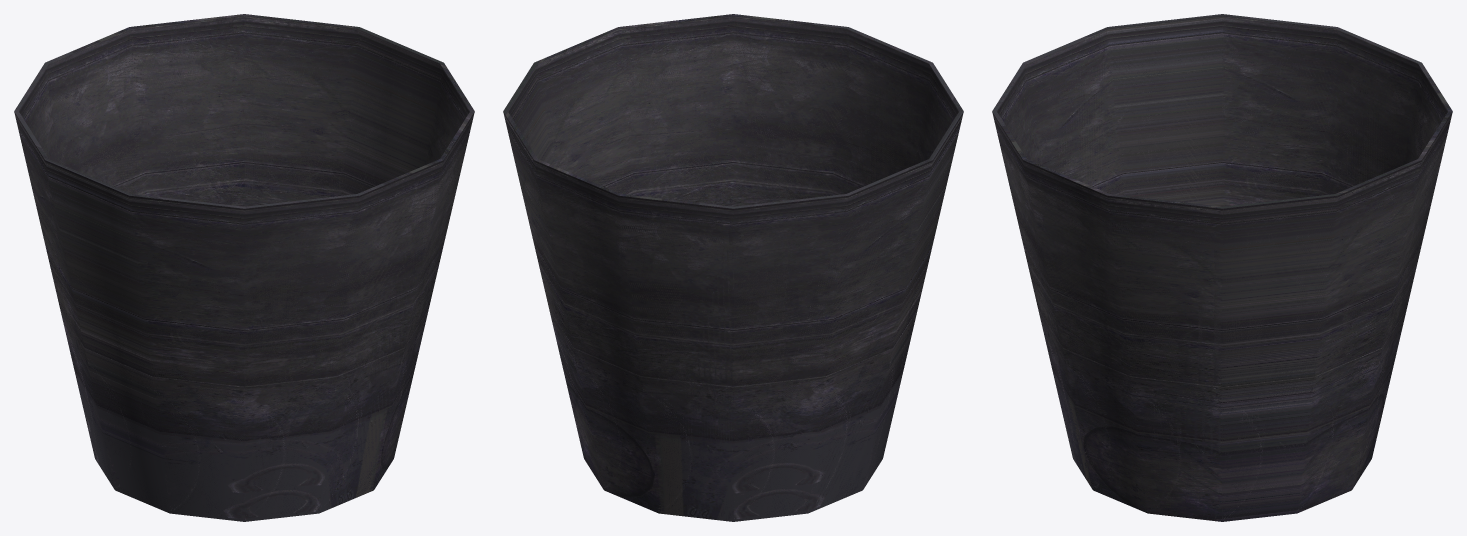
File: original-3.obj
3 views of the same model, side by side, from view 1: azimuth 30°, elevation 25°; view 2: azimuth 150°, elevation 25°; view 3: azimuth 270°, elevation 25° (orthographic).
Parts seen in each view (by area): view 1: #ID27; view 2: #ID27; view 3: #ID27.
Boxes of the visible parts, x1,y1,x2,y2 form: #ID27: (14, 14, 474, 521); #ID27: (503, 14, 963, 521); #ID27: (992, 14, 1452, 521).
Size of the model in its own units: 1.41 by 1.17 by 1.41.
